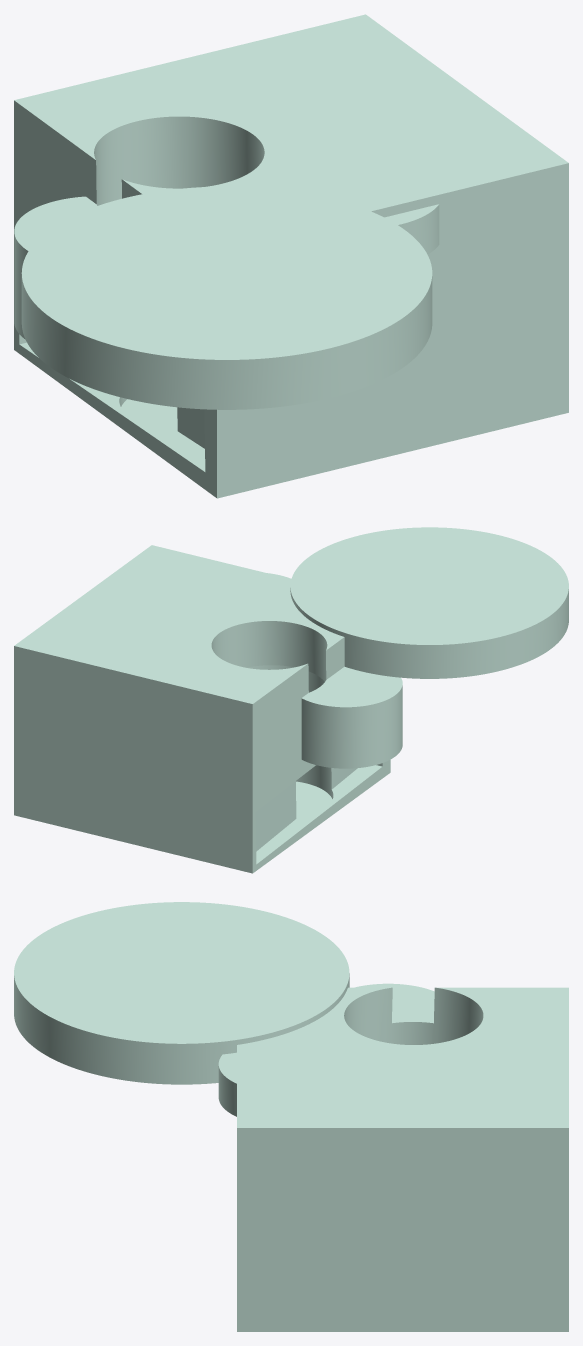
The picture shows the model from 3 angles, top to bottom: view 1: azimuth 30°, elevation 25°; view 2: azimuth 150°, elevation 25°; view 3: azimuth 270°, elevation 25°; orthographic projection. The views are drawn at different scales.
Parts seen in each view (by area): view 1: Renderer Node; view 2: Renderer Node; view 3: Renderer Node.
Boxes of the visible parts, <box> form: Renderer Node: <box>14,14,568,498</box>; Renderer Node: <box>14,527,568,873</box>; Renderer Node: <box>14,902,568,1331</box>.
Bounding box in the file's own units: 1.45 × 0.6406 × 1.54.
